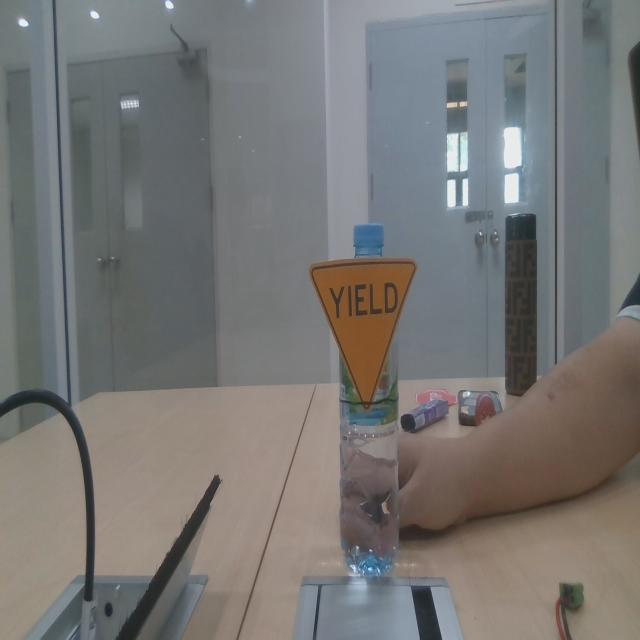Yield: (303, 237, 420, 418)
